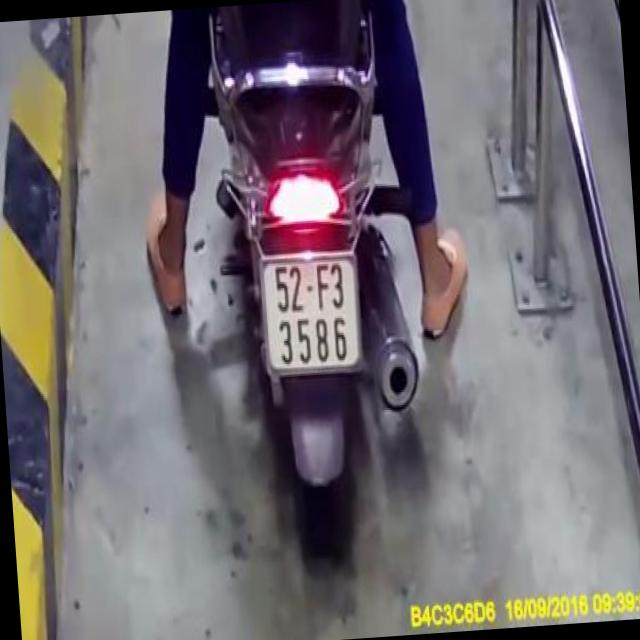LP: (256, 244, 366, 380)
